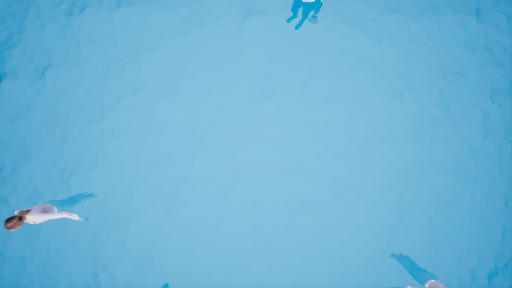person: (5, 192, 111, 233)
